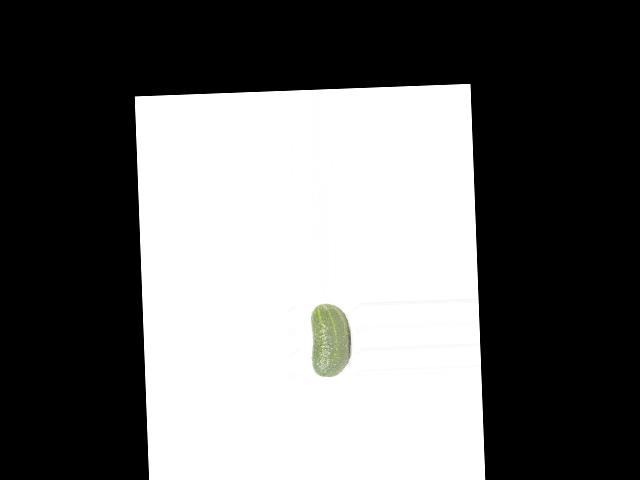cucumber: (310, 302, 352, 377)
